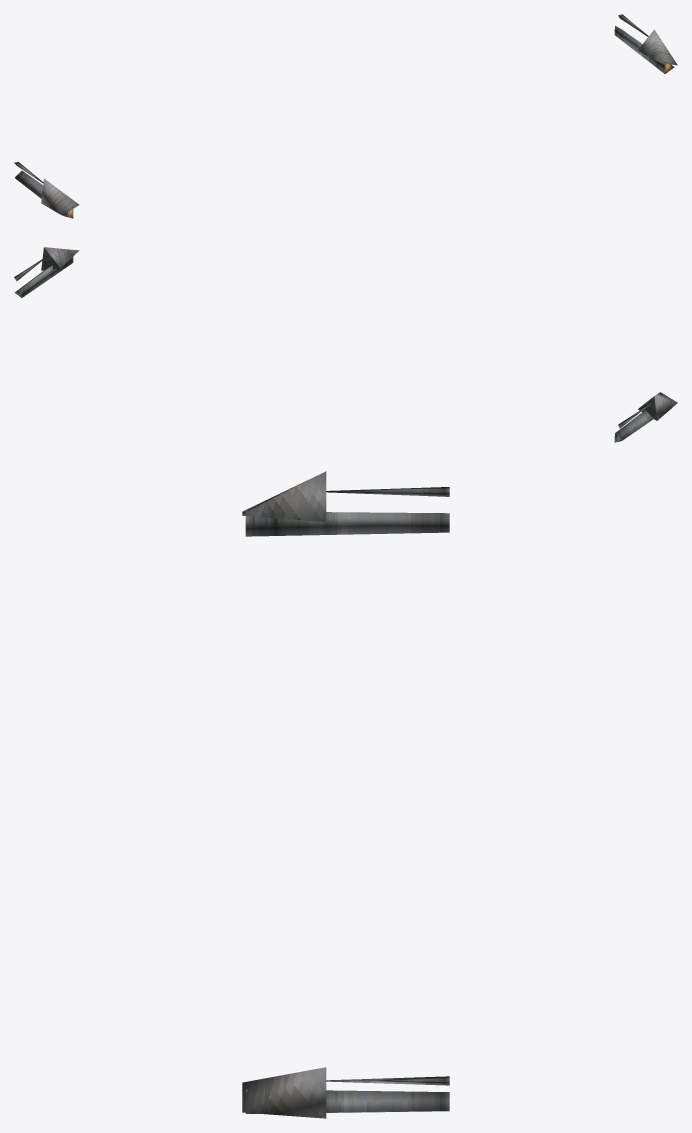
Rendered from hutt_fighter_light_weapon_s06_l3.fbx.
The picture shows the model from 3 angles, top to bottom: view 1: azimuth 30°, elevation 25°; view 2: azimuth 150°, elevation 25°; view 3: azimuth 270°, elevation 25°; orthographic projection. The views are drawn at different scales.
Parts seen in each view (by area): view 1: mesh_node; view 2: mesh_node; view 3: mesh_node.
Boxes of the visible parts, x1,y1,x2,y2 form: mesh_node: [14, 14, 677, 218]; mesh_node: [14, 247, 677, 442]; mesh_node: [242, 471, 449, 1118].
Bounding box in the file's own units: 3.4 × 0.1481 × 0.4951.
